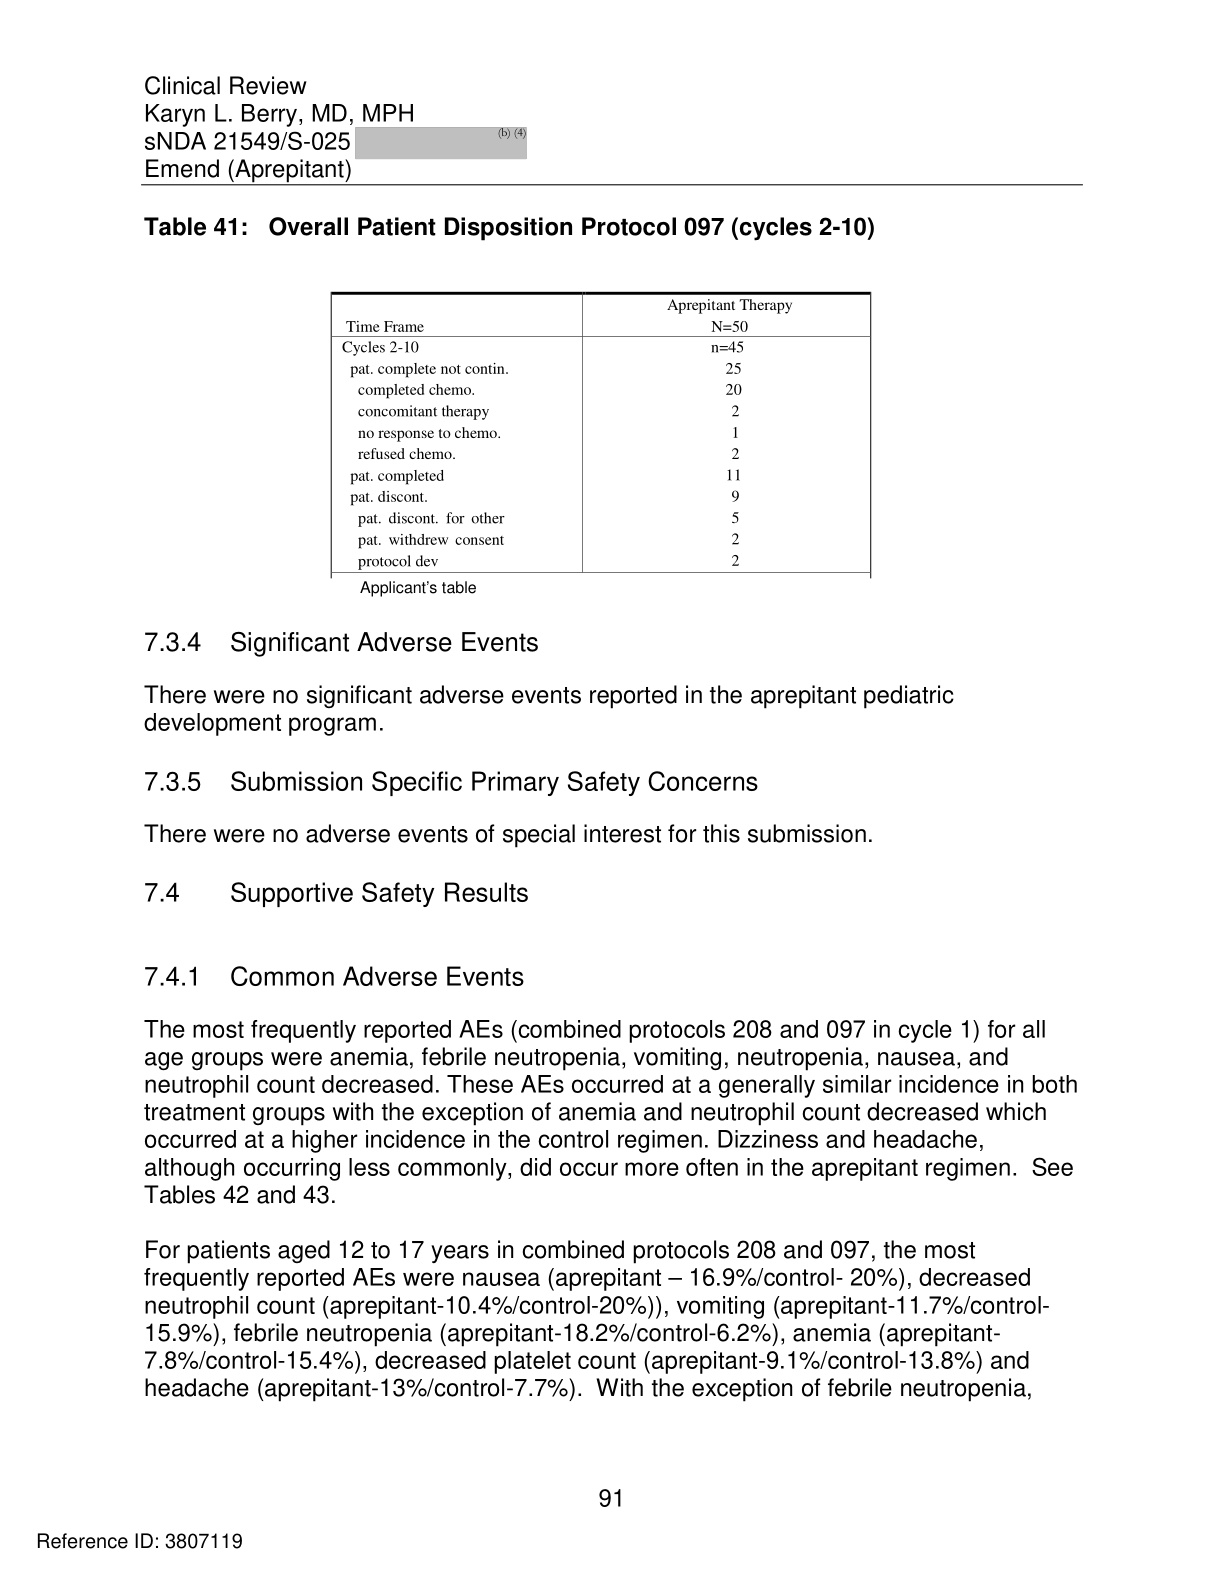partial_lined: (329, 291, 872, 579)
